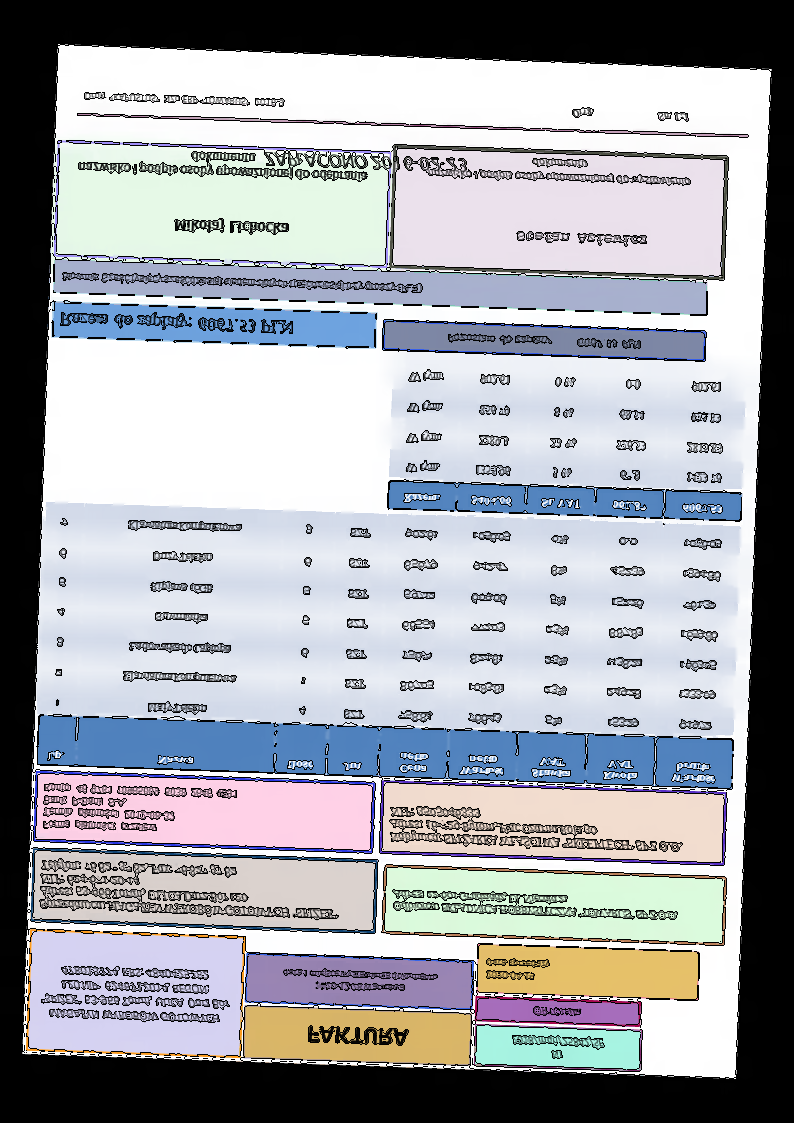Table: (35, 499, 743, 792), (385, 356, 747, 523)
TextBox: (37, 855, 343, 926), (387, 802, 686, 857), (38, 961, 232, 1028), (40, 780, 240, 839), (75, 145, 367, 183), (389, 887, 679, 925), (60, 268, 423, 298), (426, 152, 693, 191), (57, 307, 297, 339), (263, 145, 473, 176), (278, 964, 440, 997), (81, 88, 286, 112), (445, 330, 643, 352), (171, 215, 292, 241), (508, 1031, 605, 1063), (514, 227, 650, 249), (305, 1023, 411, 1048), (482, 951, 552, 985), (569, 107, 692, 126), (531, 1002, 584, 1021)
